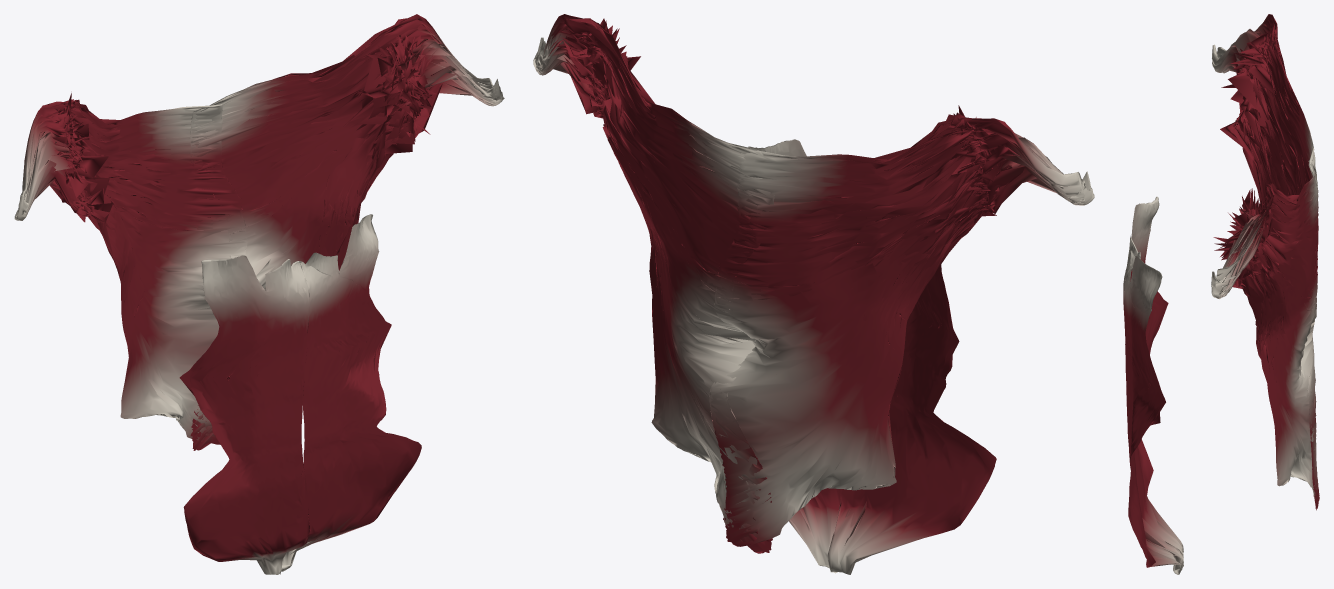
File: axon-sippy-mobile-sa.glb
3 renders of one model, left to right at view 1: azimuth 30°, elevation 25°; view 2: azimuth 150°, elevation 25°; view 3: azimuth 270°, elevation 25°, orthographic. The views are drawn at different scales.
Visible parts, largest first — view 1: muscles / tissue; view 2: muscles / tissue; view 3: muscles / tissue.
Part boxes in pixels (bbox=[...]): muscles / tissue: bbox=[14, 14, 504, 574]; muscles / tissue: bbox=[533, 14, 1094, 574]; muscles / tissue: bbox=[1123, 14, 1319, 574].
Bounding box in the file's own units: 0.4265 × 0.4038 × 0.1516.
